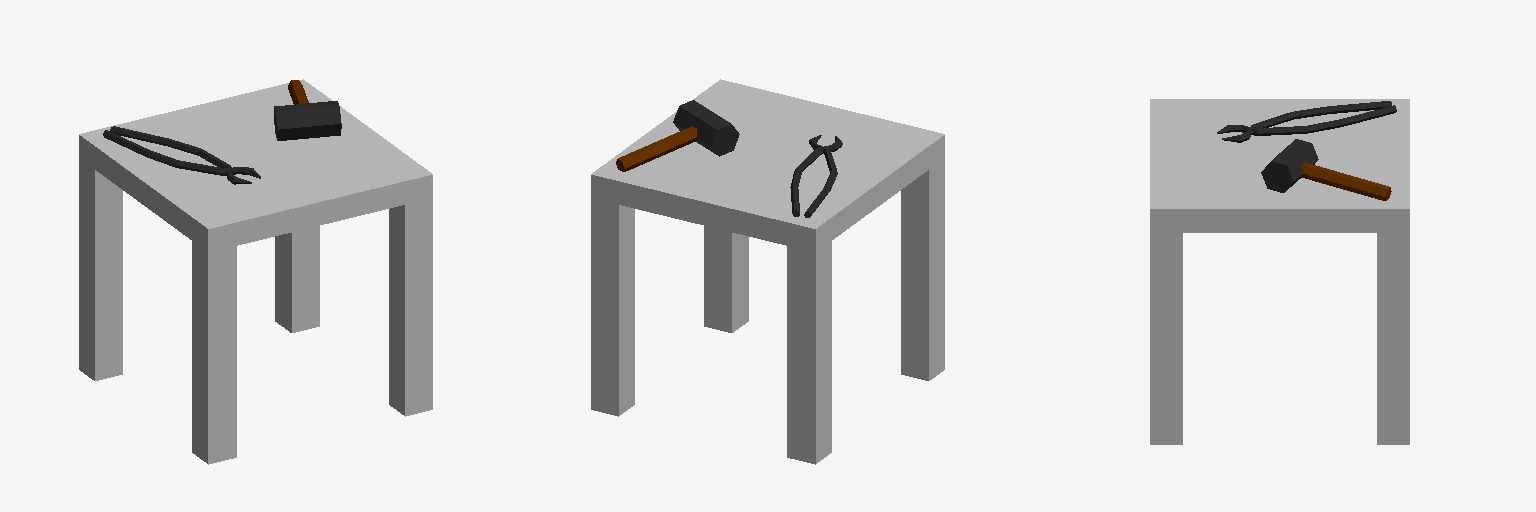
The model's file is block_workbench.obj.
3 renders of one model, left to right at view 1: azimuth 30°, elevation 25°; view 2: azimuth 150°, elevation 25°; view 3: azimuth 270°, elevation 25°, orthographic.
Parts seen in each view (by area): view 1: Cube.002, Calipers_Cylinder.005, Hammer_Cylinder.000; view 2: Cube.002, Hammer_Cylinder.000, Calipers_Cylinder.005, Hammer.001_Cylinder.002; view 3: Cube.002, Calipers_Cylinder.005, Hammer_Cylinder.000, Hammer.001_Cylinder.002.
Boxes of the visible parts, x1=… form: Cube.002: x1=79, y1=79, x2=432, y2=464; Calipers_Cylinder.005: x1=103, y1=126, x2=260, y2=184; Hammer_Cylinder.000: x1=274, y1=101, x2=341, y2=140; Cube.002: x1=591, y1=79, x2=944, y2=464; Hammer_Cylinder.000: x1=673, y1=100, x2=739, y2=156; Calipers_Cylinder.005: x1=790, y1=135, x2=842, y2=217; Hammer.001_Cylinder.002: x1=616, y1=126, x2=697, y2=171; Cube.002: x1=1150, y1=99, x2=1409, y2=444; Calipers_Cylinder.005: x1=1217, y1=101, x2=1396, y2=142; Hammer_Cylinder.000: x1=1261, y1=139, x2=1318, y2=192; Hammer.001_Cylinder.002: x1=1301, y1=162, x2=1391, y2=200.
Size of the model in its own units: 1 by 1.14 by 1.